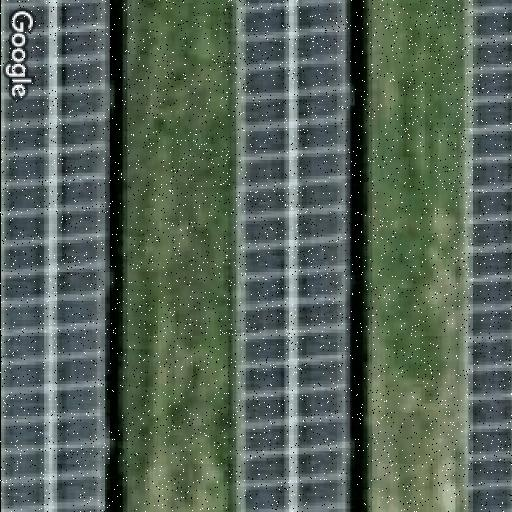solar-panel: (230, 0, 350, 512), (0, 0, 111, 512), (461, 0, 512, 512)
